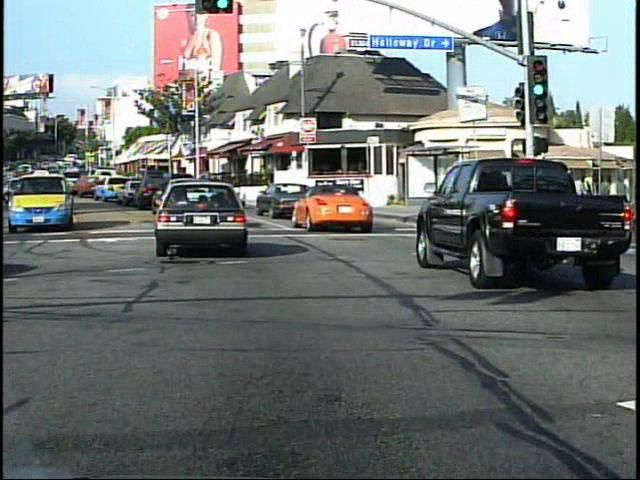person: (590, 184, 613, 255)
